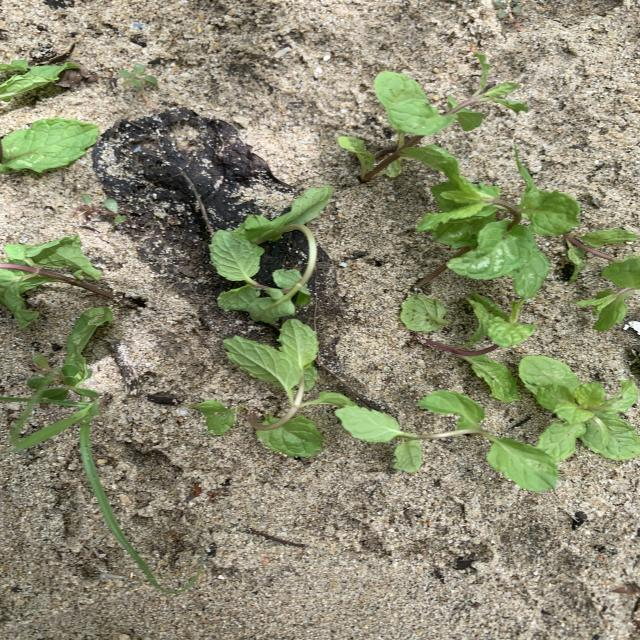crop: (395, 141, 580, 313), (338, 53, 528, 182), (193, 320, 355, 455), (210, 187, 331, 322), (400, 294, 535, 401), (419, 390, 558, 490), (521, 356, 639, 459), (0, 237, 115, 327), (565, 229, 640, 331), (336, 406, 420, 471), (0, 118, 99, 173), (375, 73, 430, 133), (0, 60, 71, 102), (339, 138, 386, 180)
weed: (11, 401, 160, 587), (28, 352, 98, 404), (73, 195, 127, 222), (119, 64, 158, 88), (492, 1, 522, 17)
